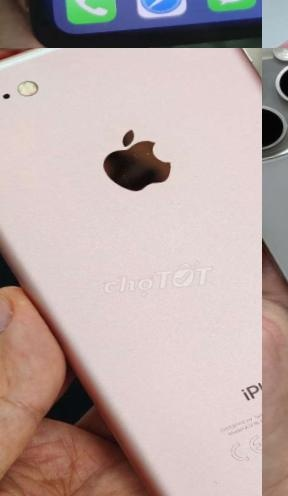scratch: (124, 145, 155, 160), (206, 470, 227, 491)
